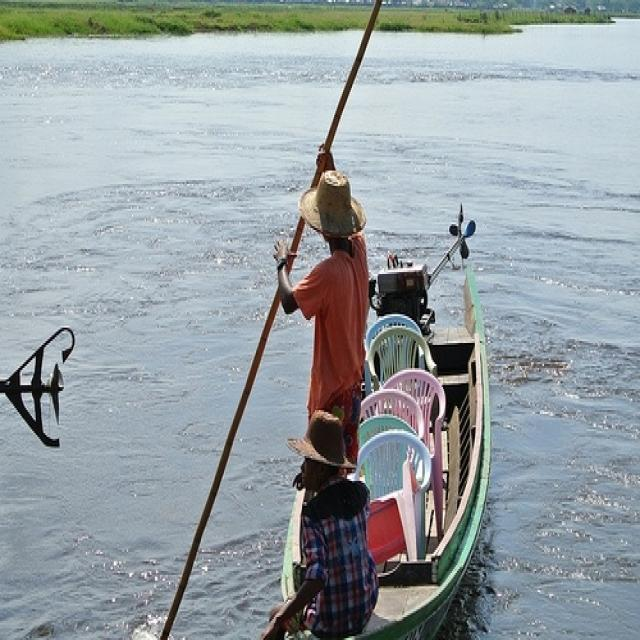boat: (265, 266, 496, 640)
